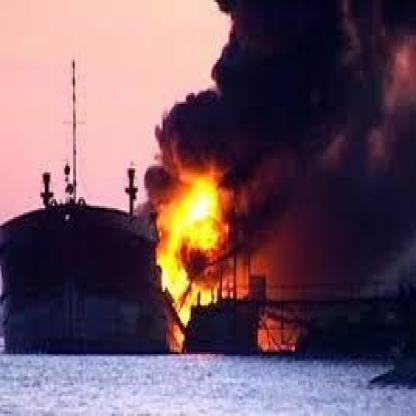fire: (144, 171, 249, 340)
smoke: (143, 0, 413, 173)
